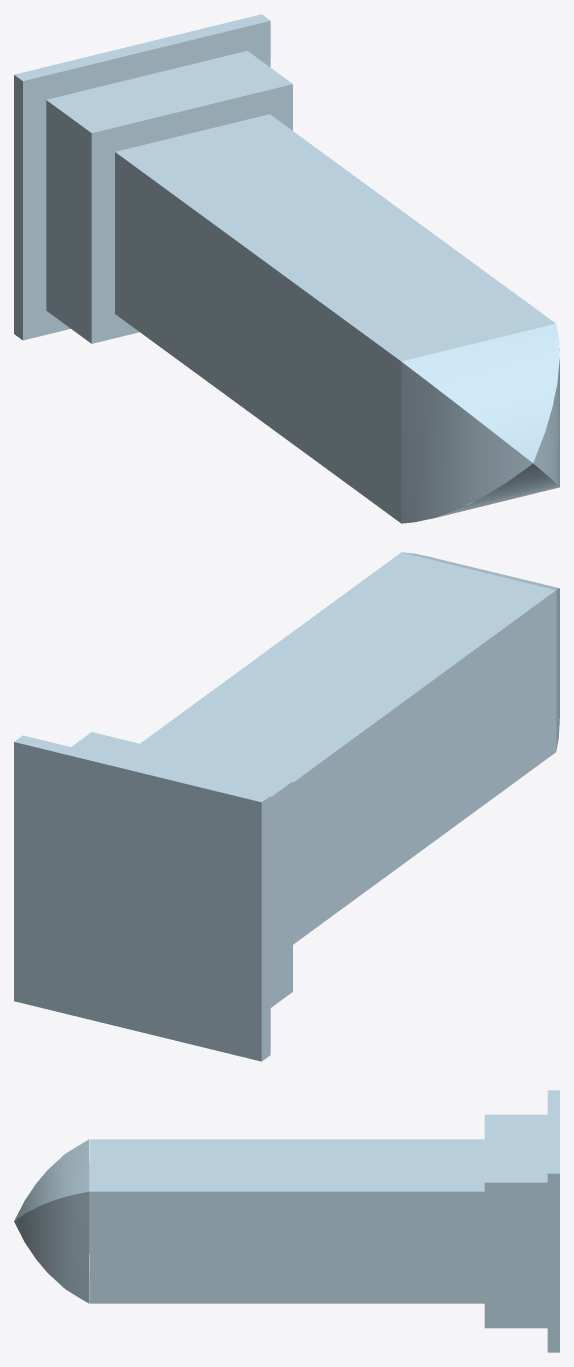
The model's file is PA-61-F_Decimated25.fbx.
The picture shows the model from 3 angles, top to bottom: view 1: azimuth 30°, elevation 25°; view 2: azimuth 150°, elevation 25°; view 3: azimuth 270°, elevation 25°; orthographic projection. The views are drawn at different scales.
Parts seen in each view (by area): view 1: PA-61-F_LOD2; view 2: PA-61-F_LOD2; view 3: PA-61-F_LOD2.
Boxes of the visible parts, left/top/right/bottom form: PA-61-F_LOD2: left=14, top=14, right=559, bottom=523; PA-61-F_LOD2: left=14, top=552, right=559, bottom=1061; PA-61-F_LOD2: left=14, top=1090, right=559, bottom=1352.
Bounding box in the file's own units: 40.64 × 40.64 × 112.
